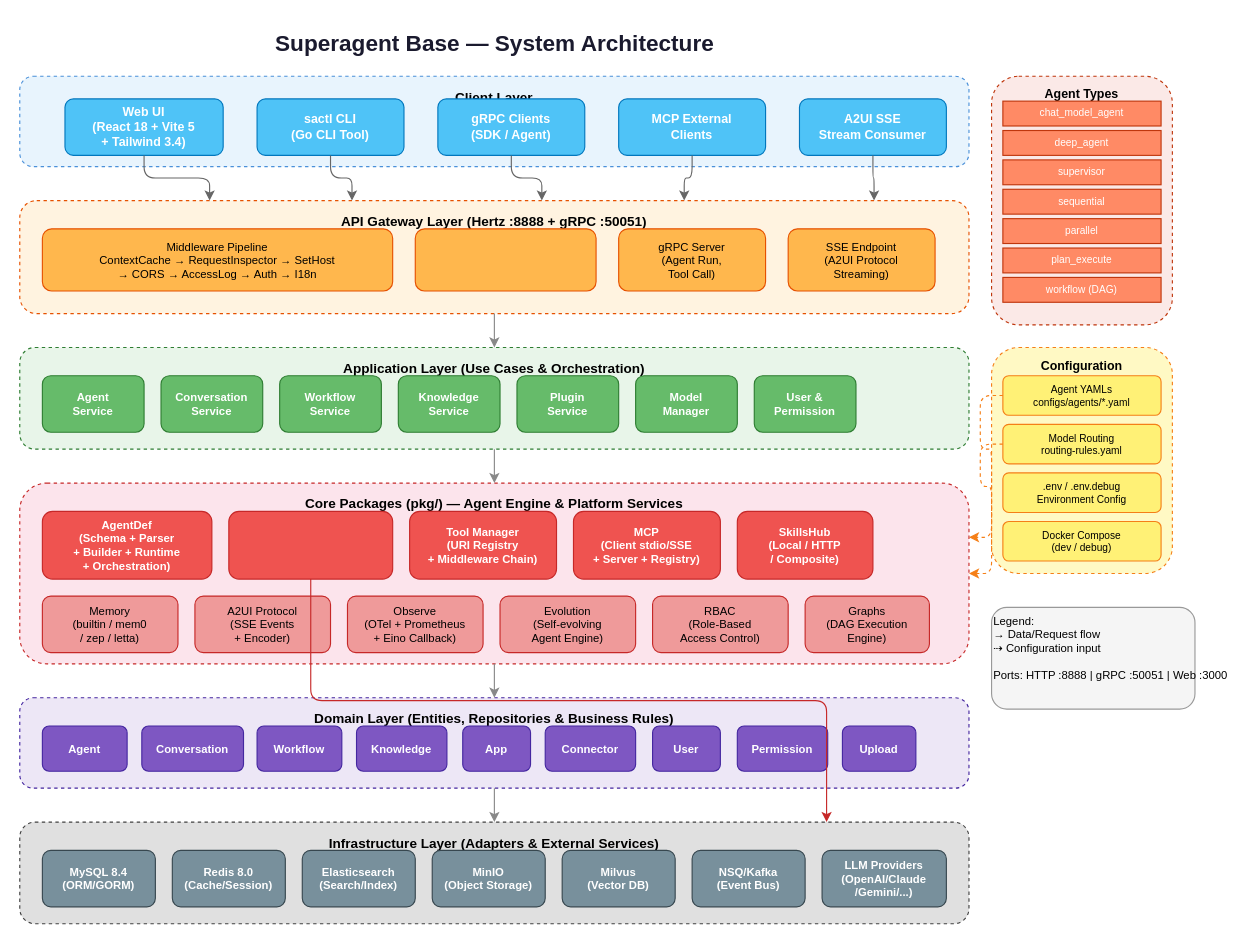
This 1248x944 diagram has some shape labels left out. The centre of each missing label's shape, as x and y in pixels:
Model Router (Capability / Cost / Latency + Fallback): pixel 310 544
REST Handlers (agent, chat, workflow, knowledge, skill, model): pixel 505 259
